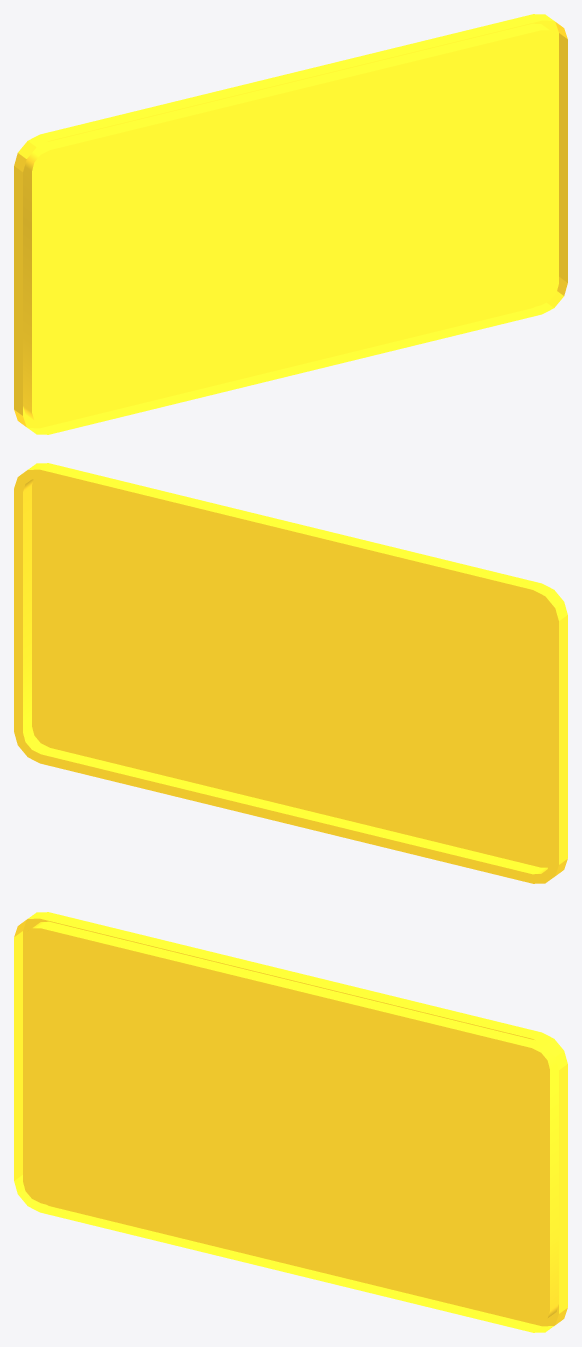
File: highlight_frame.glb
3 views of the same model, one above another, from view 1: azimuth 30°, elevation 25°; view 2: azimuth 150°, elevation 25°; view 3: azimuth 330°, elevation 25° (orthographic).
Visible parts, largest first — view 1: title_plane.001; view 2: title_plane.001; view 3: title_plane.001.
Part boxes in pixels (x1,y1,x2,y2): title_plane.001: (14,14,567,434); title_plane.001: (14,463,567,883); title_plane.001: (14,912,567,1332).
Bounding box in the file's own units: 1.65 × 0.852 × 0.0469.
